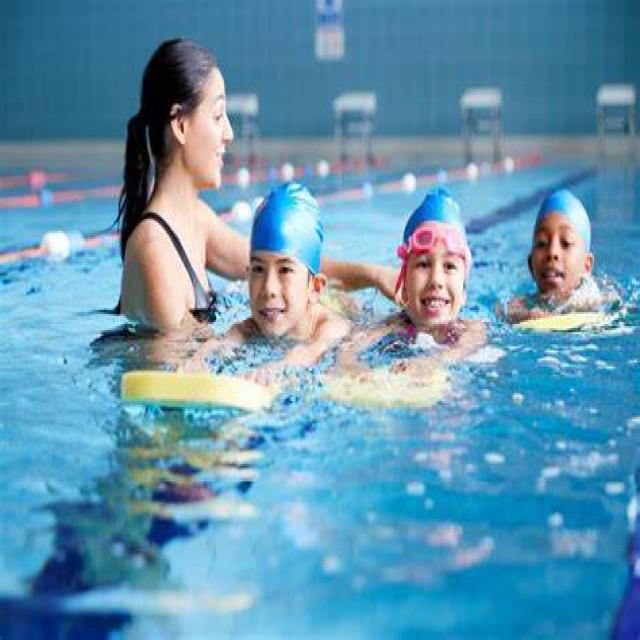swimming: (209, 158, 360, 501), (381, 181, 482, 427), (508, 162, 598, 359)
